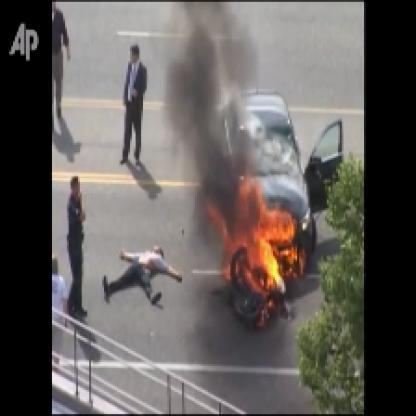Fire: (204, 169, 305, 303)
Smoke: (169, 2, 256, 241)
